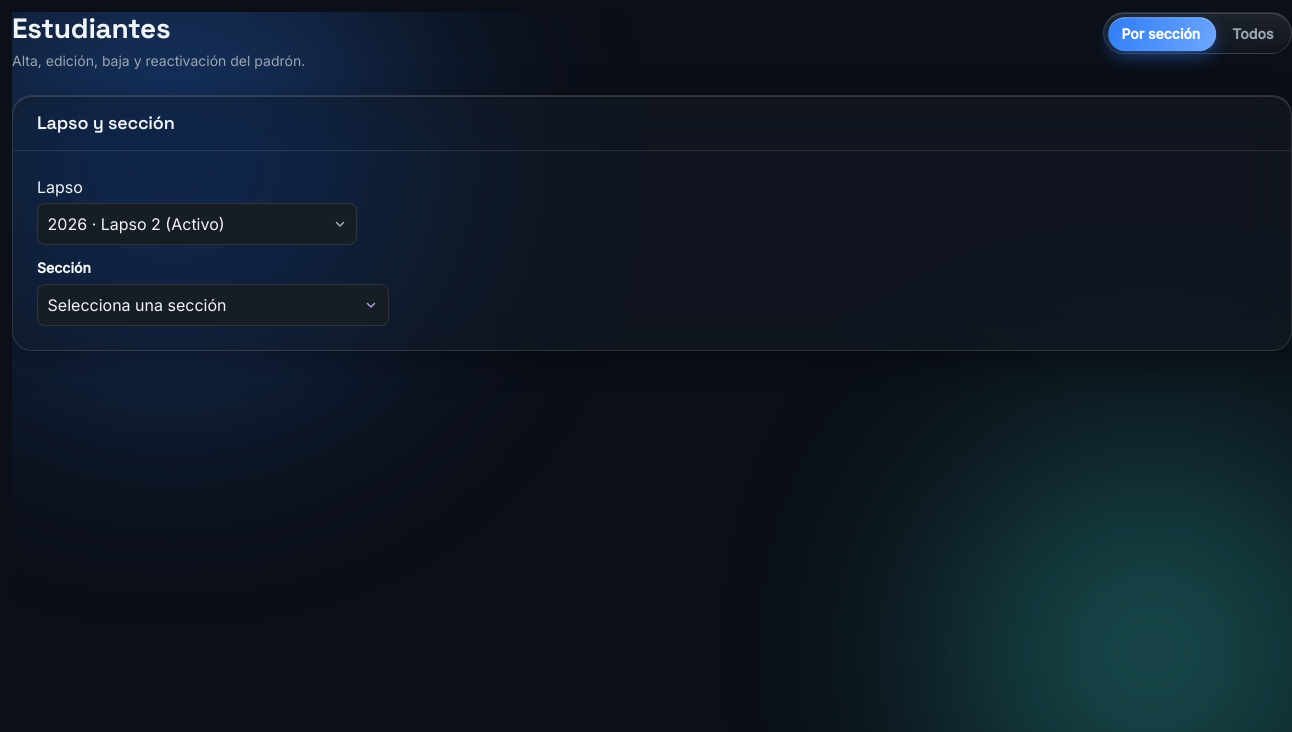
Test: EstudiantesPage › filtra con el buscador sin volver a pedir al backend
Click the button "Todos".
click(1253, 33)  # box [1218,16,1288,50]
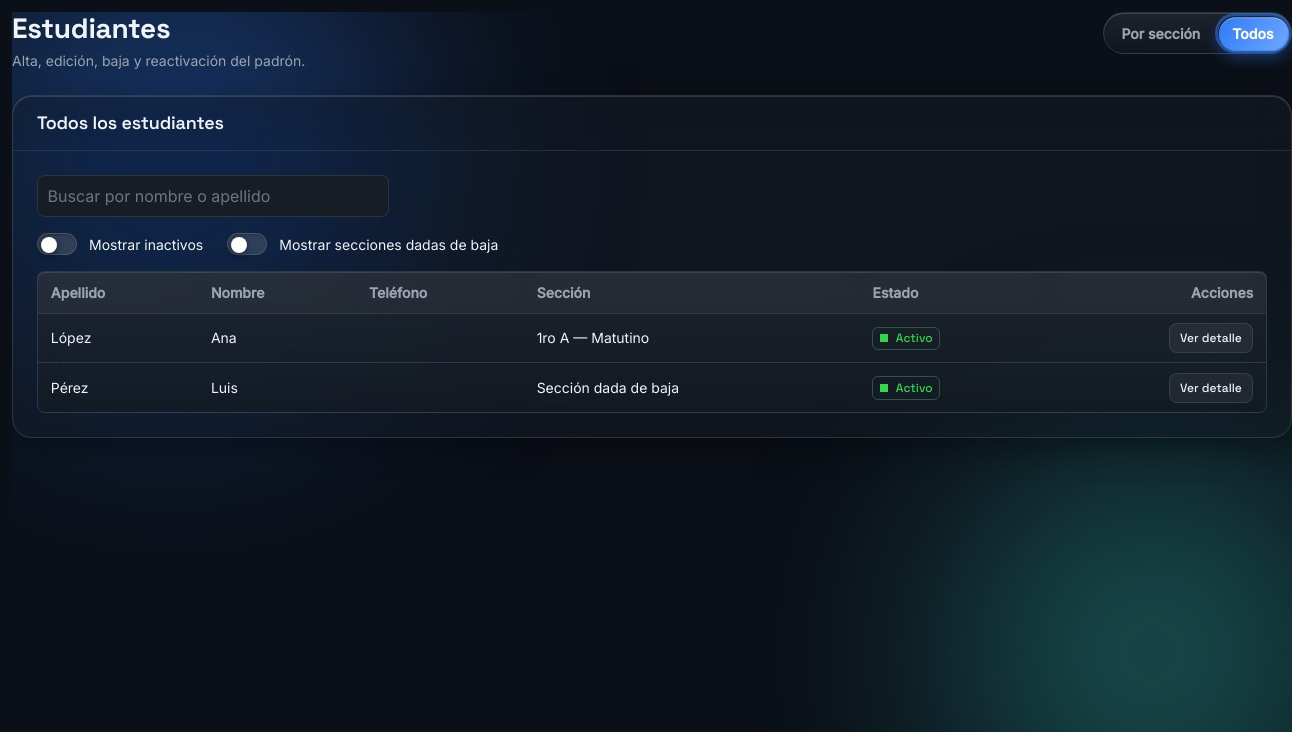
Type "luis" into the search field named "buscar-estudiante".
click(213, 196); type("luis")  # box [37,175,389,217]
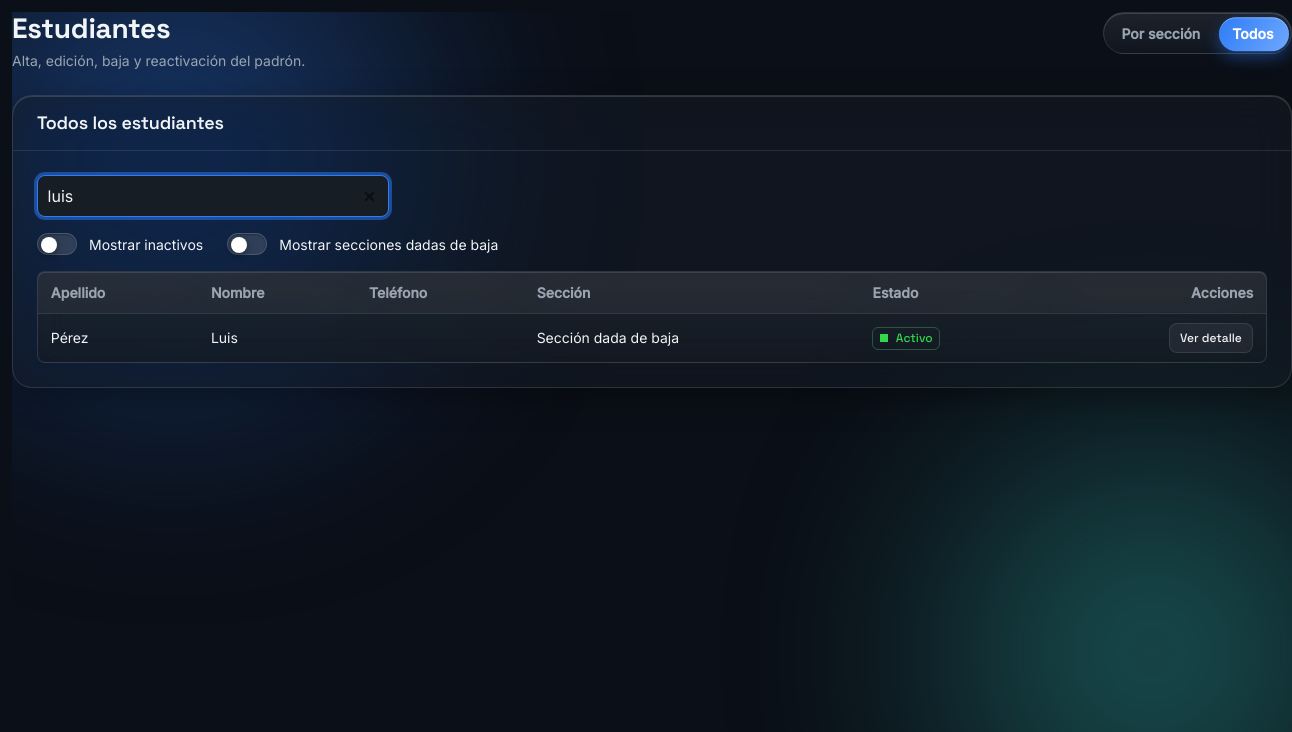
Expected: the text "Luis" is shown, [198,313,356,362]
Expected: the text "Ana" is gone
